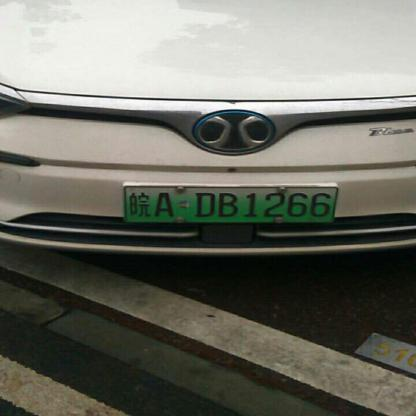lp: (124, 185, 336, 222)
